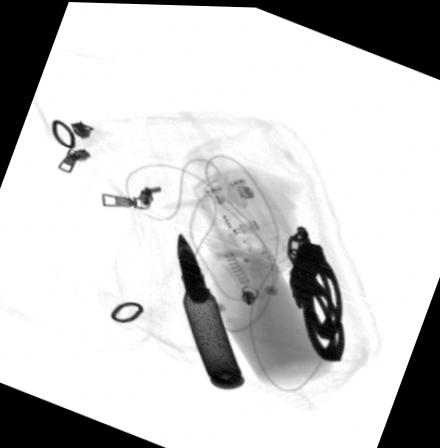Bullet: (176, 230, 246, 386)
HandCuffs: (285, 222, 345, 359)
